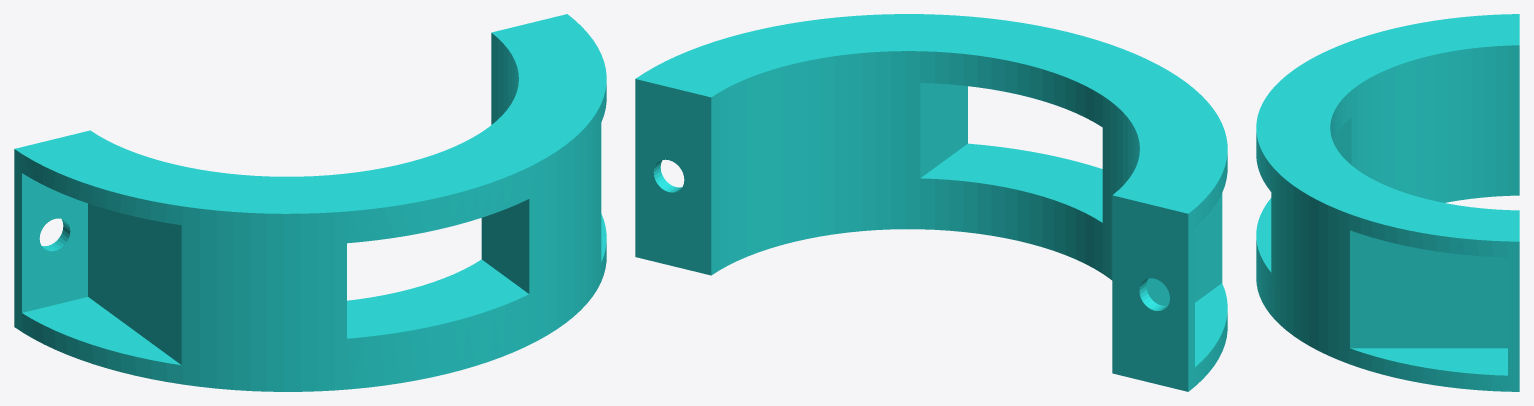
File: UR3_camera_mount_lower_.dae
3 views of the same model, side by side, from view 1: azimuth 30°, elevation 25°; view 2: azimuth 150°, elevation 25°; view 3: azimuth 270°, elevation 25° (orthographic). The views are drawn at different scales.
Visible parts, largest first — view 1: UR3 camra mount lower v1; view 2: UR3 camra mount lower v1; view 3: UR3 camra mount lower v1.
Part boxes in pixels (x1,y1,x2,y2): UR3 camra mount lower v1: (14, 14, 606, 391); UR3 camra mount lower v1: (635, 14, 1227, 391); UR3 camra mount lower v1: (1256, 14, 1519, 391).
Size of the model in its own units: 0.091 by 0.0445 by 0.028.
